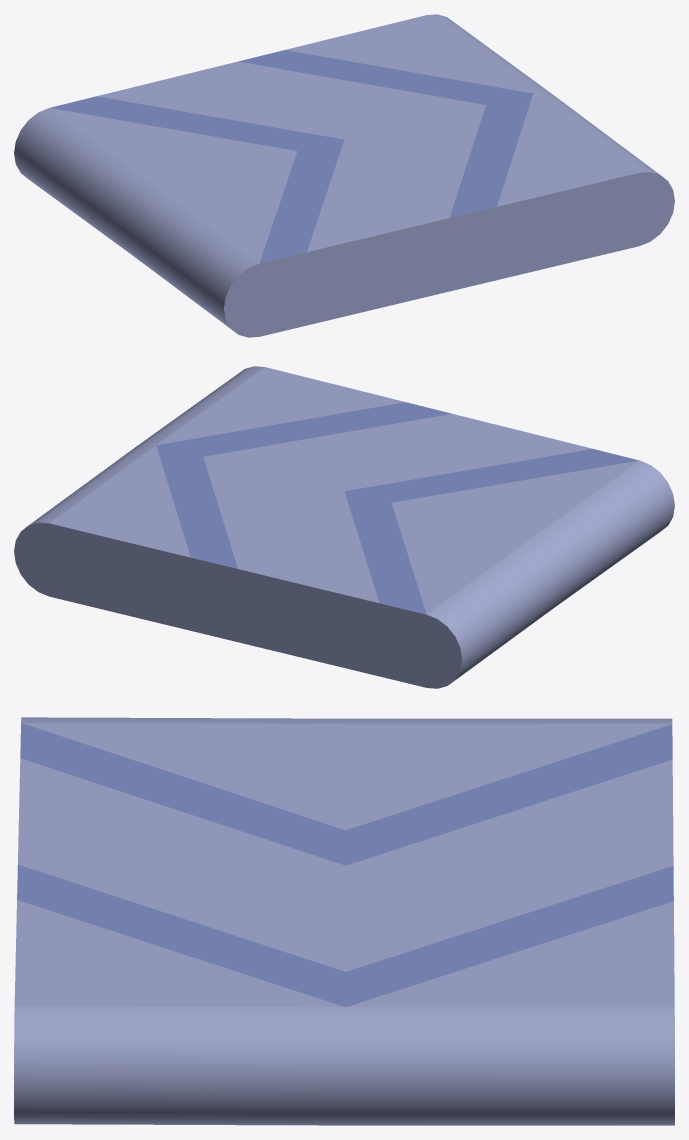
Rendered from ベルトコンベアー(ベルト).fbx.
The picture shows the model from 3 angles, top to bottom: view 1: azimuth 30°, elevation 25°; view 2: azimuth 150°, elevation 25°; view 3: azimuth 270°, elevation 25°; orthographic projection. The views are drawn at different scales.
Visible parts, largest first — view 1: pCylinder1; view 2: pCylinder1; view 3: pCylinder1.
Part boxes in pixels (<box>): pCylinder1: <box>14,14,674,337</box>; pCylinder1: <box>14,366,674,688</box>; pCylinder1: <box>14,717,674,1125</box>.
Bounding box in the file's own units: 3.14 × 0.4892 × 2.6.
